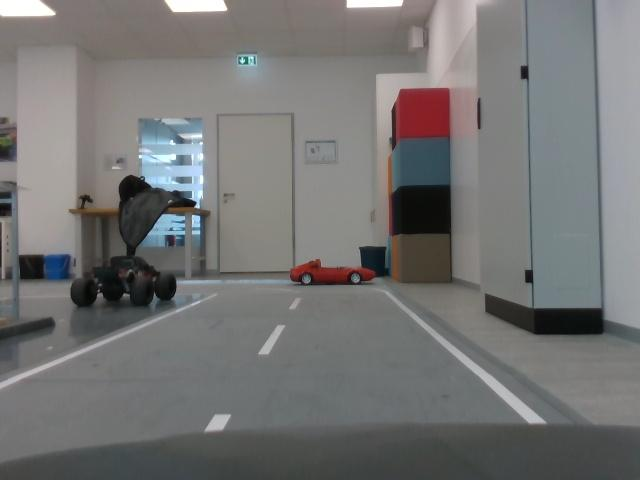car: (68, 249, 185, 317), (288, 254, 381, 288)
